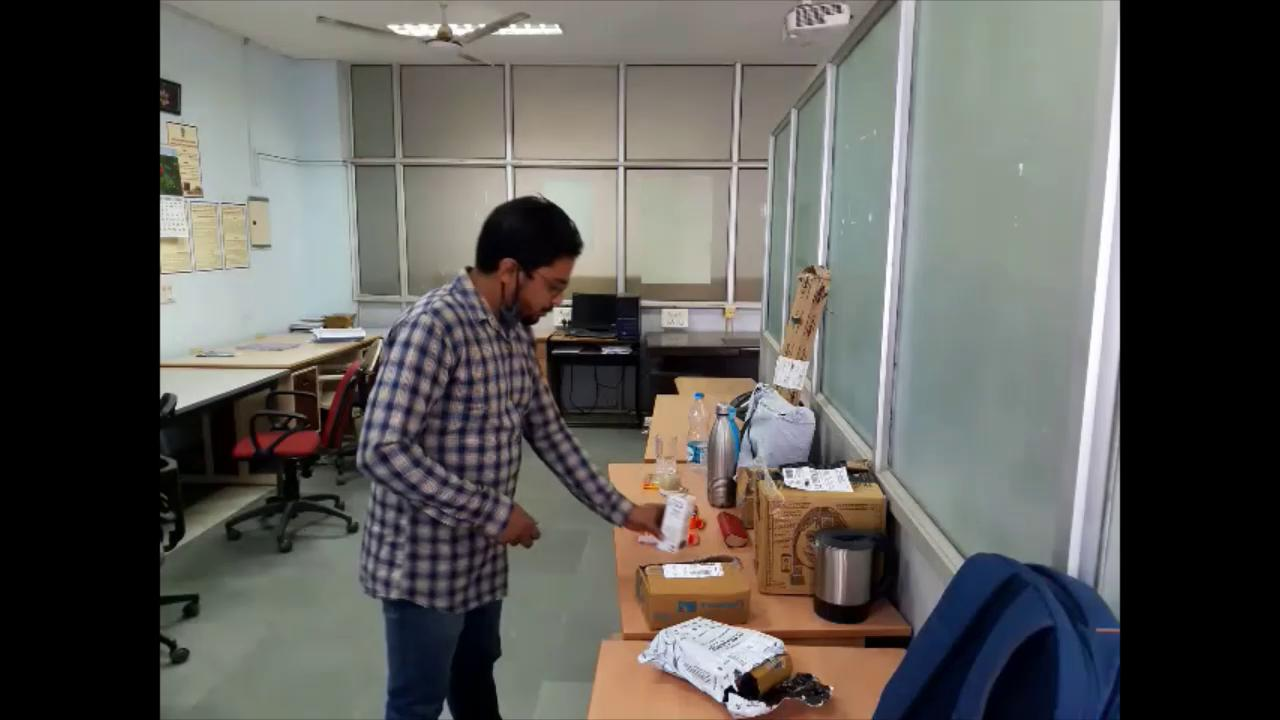Normal: (352, 194, 701, 720)
